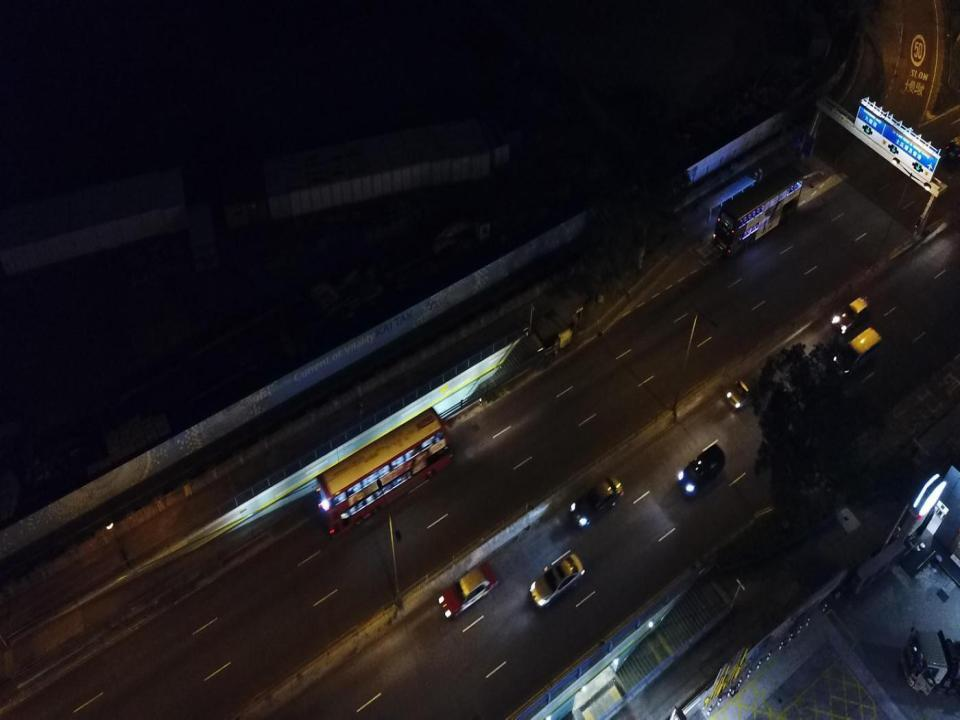bus: (317, 407, 454, 537), (714, 164, 802, 255)
car: (530, 549, 586, 610), (439, 562, 498, 619), (569, 472, 623, 527), (680, 442, 726, 498), (725, 371, 764, 413), (832, 293, 869, 332)
van: (835, 328, 883, 379)
